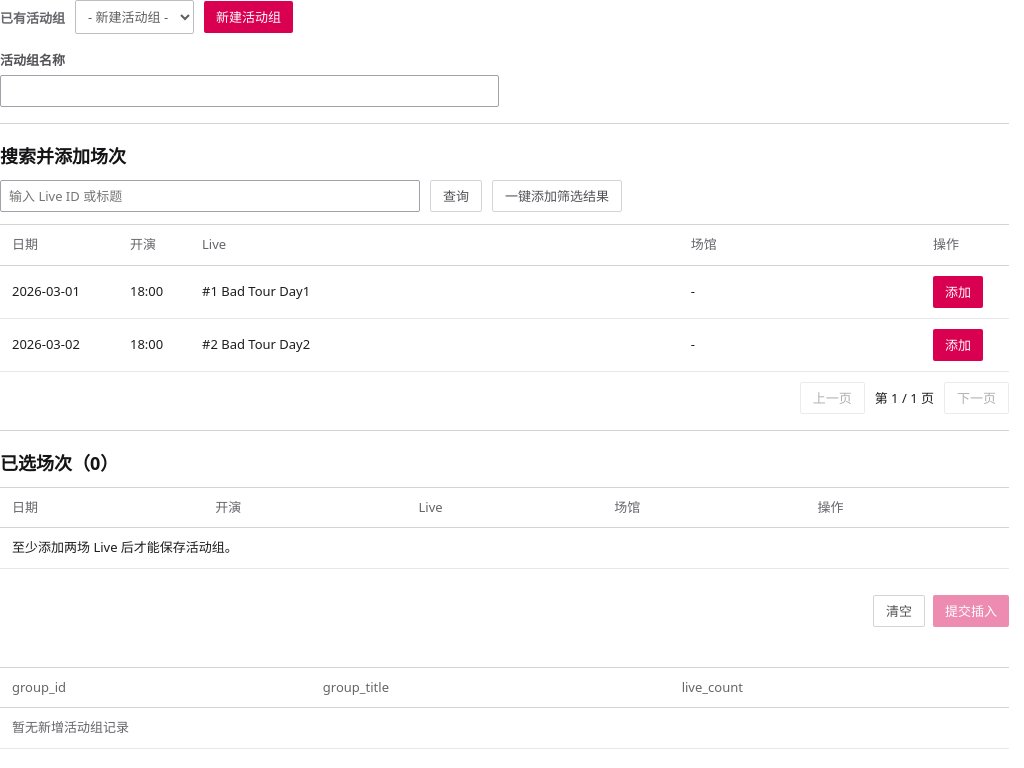
PerformanceGroupAdminSection › shows error when creating group returns 409 for live already in another group
This screenshot has width=1024, height=768.
expect the text "#1 Bad Tour Day1" is shown: met, box [190,265,679,318]
Click the button "一键添加筛选结果": (557, 196) [492,180,622,212]
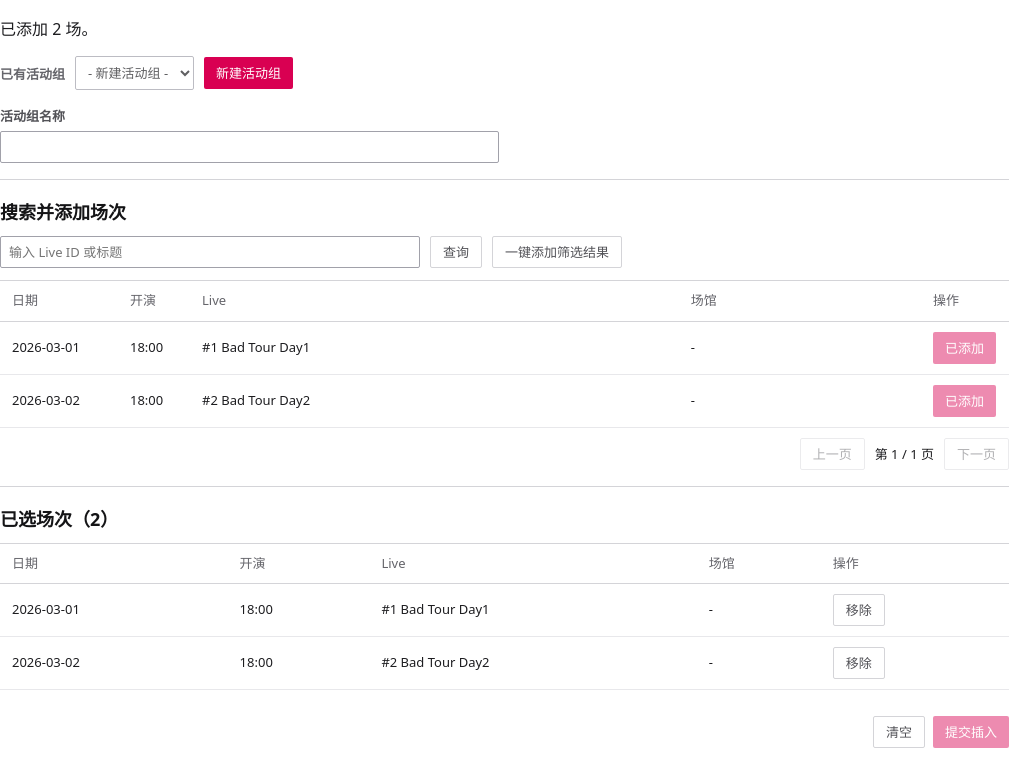
expect the text "已添加 2 场。" is shown: met, box [0,18,98,40]
In the field labelled "活动组名称": (249, 147) [0,131,498,163], type "Bad Group"
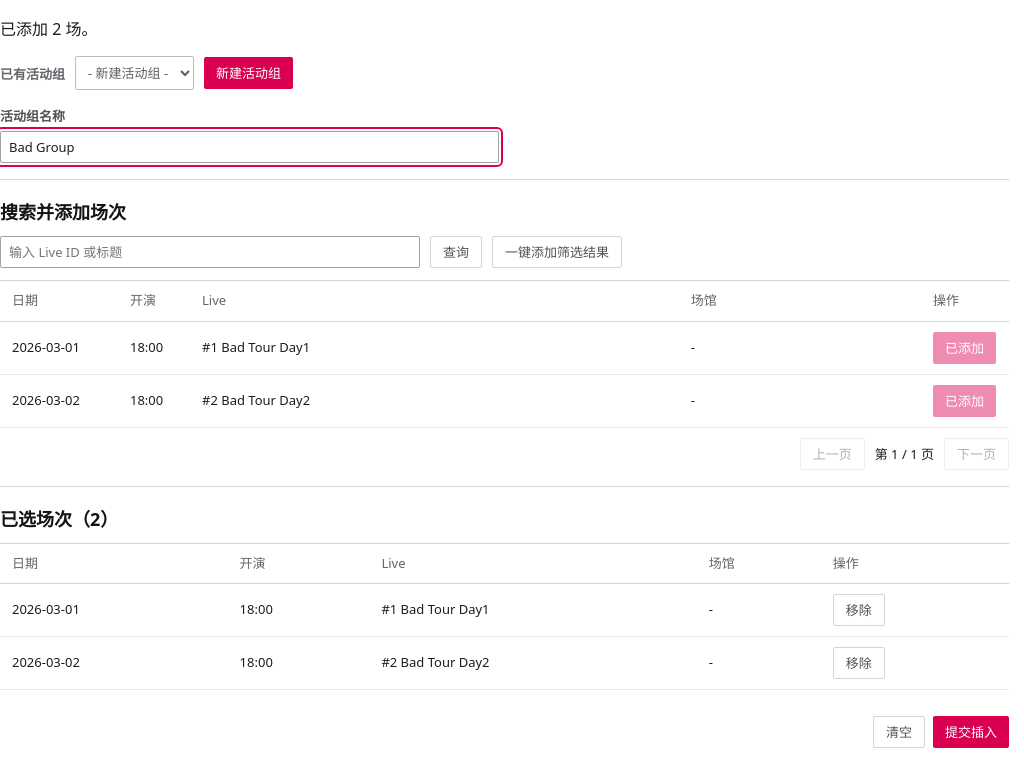
Click the button "提交插入": (971, 732) [933,716,1009,748]
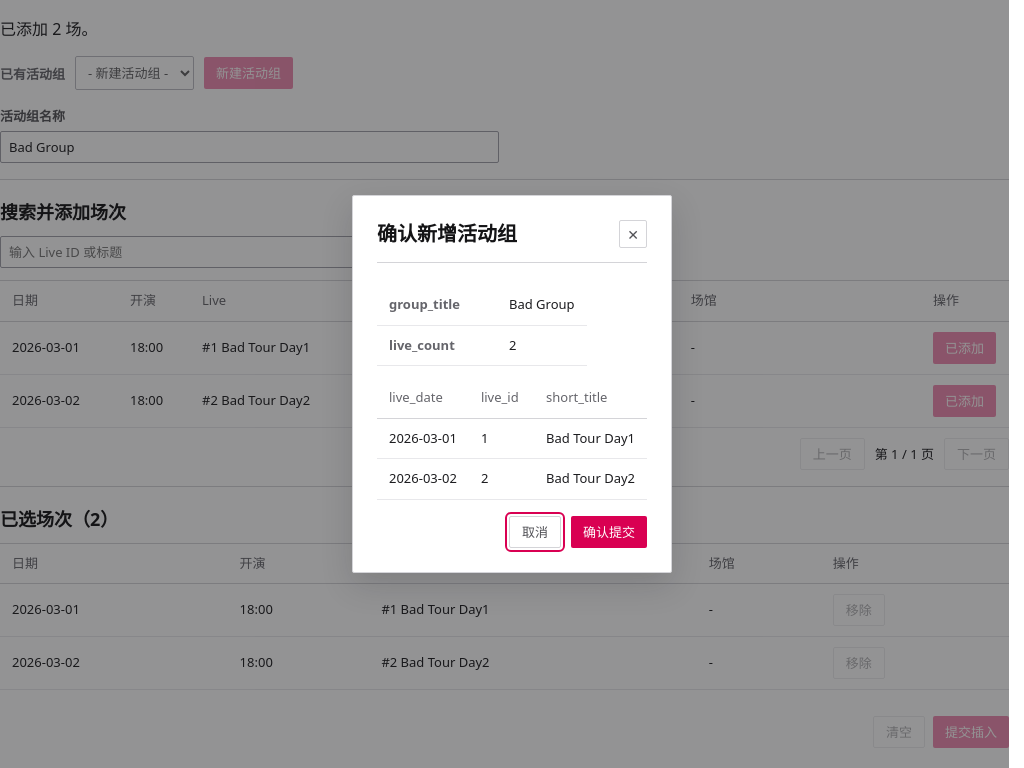
Click the button "确认提交": (609, 532) [571,516,647,548]
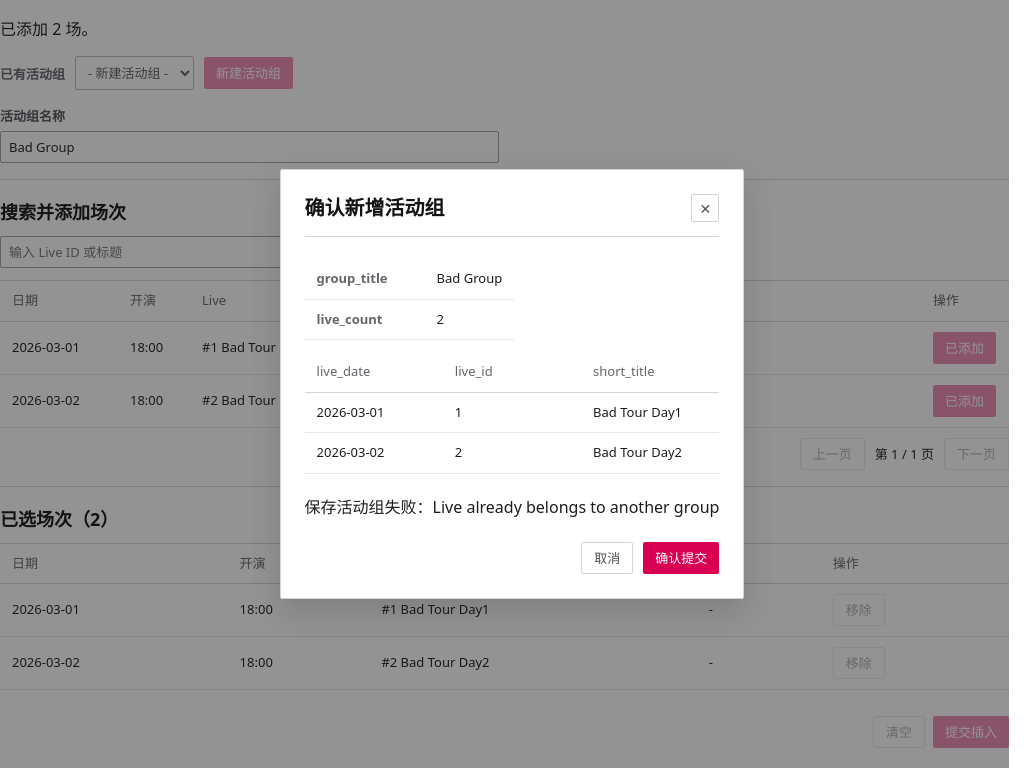
expect the text "保存活动组失败：Live already belongs to another group" is shown: met, box [305,494,719,518]
